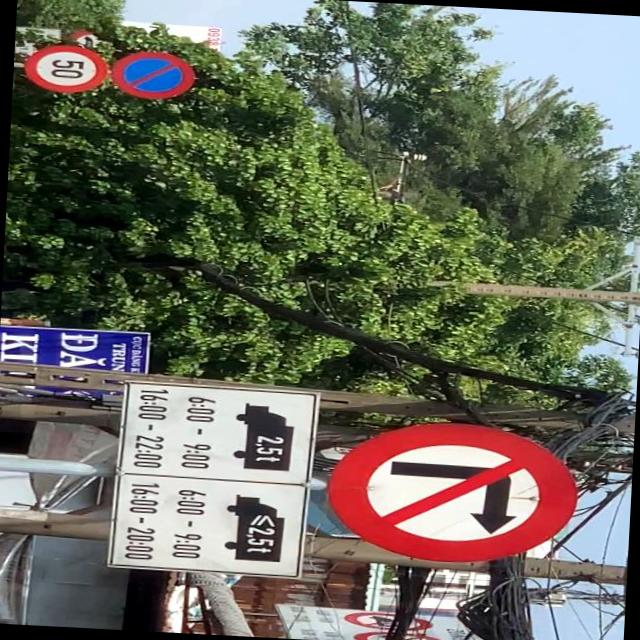P-123b: (324, 416, 580, 570)
P-127: (22, 43, 110, 94)
P-131a: (111, 51, 195, 100)
